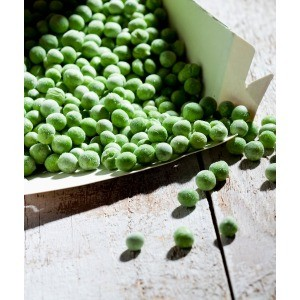green pea_brain food: (44, 50, 158, 144), (174, 160, 231, 207), (117, 228, 150, 254), (214, 219, 242, 241)
